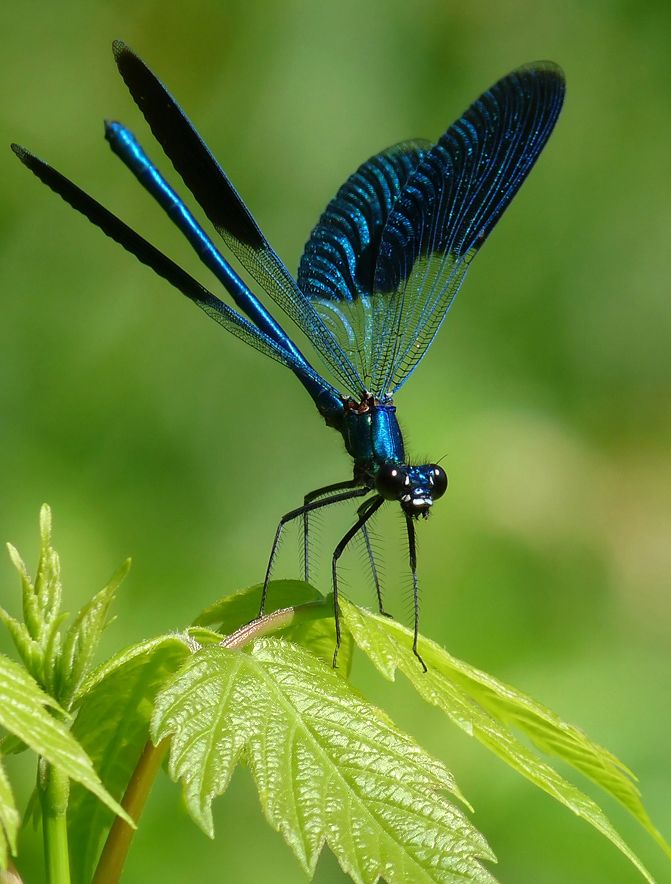insect: (11, 39, 565, 670)
